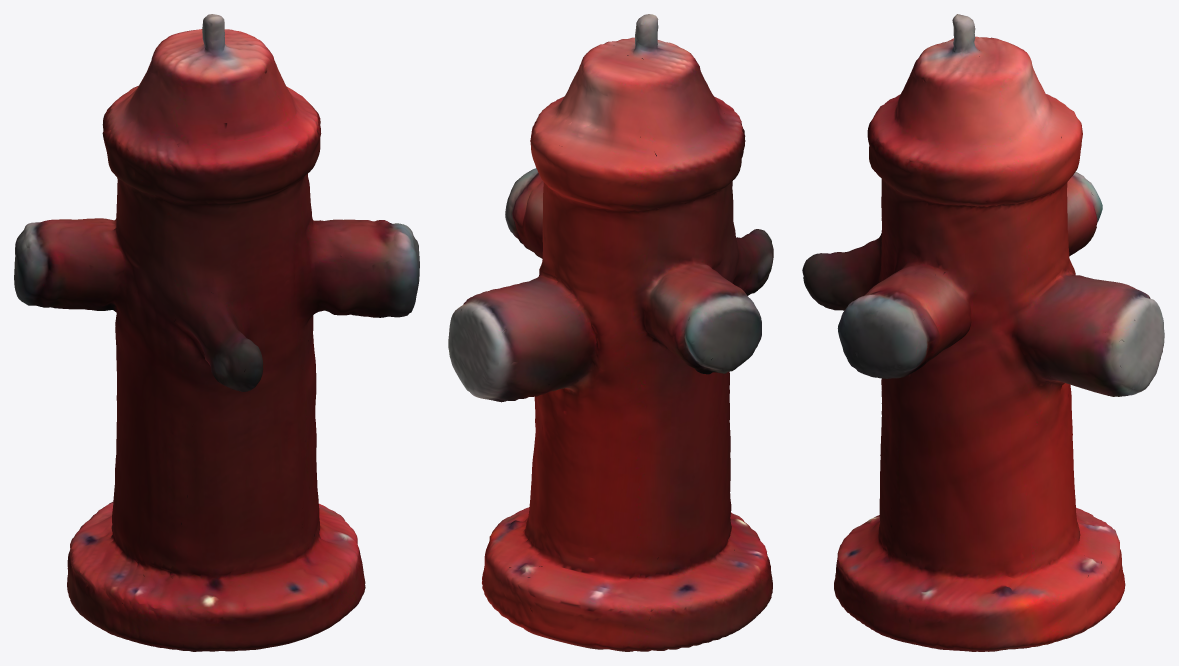
File: gen_hydrant_photo.glb
The picture shows the model from 3 angles, left to right: view 1: azimuth 30°, elevation 25°; view 2: azimuth 150°, elevation 25°; view 3: azimuth 270°, elevation 25°; orthographic projection. The views are drawn at different scales.
Parts seen in each view (by area): view 1: gen_hydrant_photo; view 2: gen_hydrant_photo; view 3: gen_hydrant_photo.
Part boxes in pixels (x1,y1,x2,y2): gen_hydrant_photo: (14,14,419,651); gen_hydrant_photo: (448,14,773,651); gen_hydrant_photo: (802,14,1164,651).
Size of the model in its own units: 0.4552 by 0.8 by 0.4534.
1 material, 1 textured.
